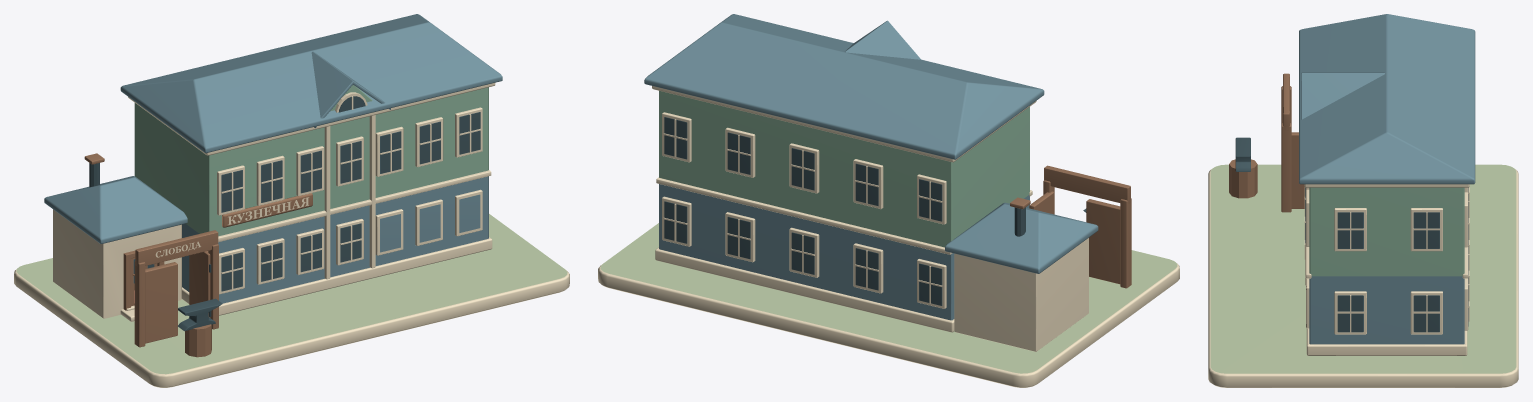
Rendered from kuznechnaya-sloboda.glb.
The picture shows the model from 3 angles, left to right: view 1: azimuth 30°, elevation 25°; view 2: azimuth 150°, elevation 25°; view 3: azimuth 270°, elevation 25°; orthographic projection. The views are drawn at different scales.
Visible parts, largest first — view 1: kuznechnaya-sloboda · soft low-poly; view 2: kuznechnaya-sloboda · soft low-poly; view 3: kuznechnaya-sloboda · soft low-poly.
Boxes of the visible parts, x1,y1,x2,y2 form: kuznechnaya-sloboda · soft low-poly: [14, 14, 569, 387]; kuznechnaya-sloboda · soft low-poly: [598, 14, 1179, 387]; kuznechnaya-sloboda · soft low-poly: [1208, 14, 1518, 387].
Bounding box in the file's own units: 7.4 × 3.7 × 4.6.
